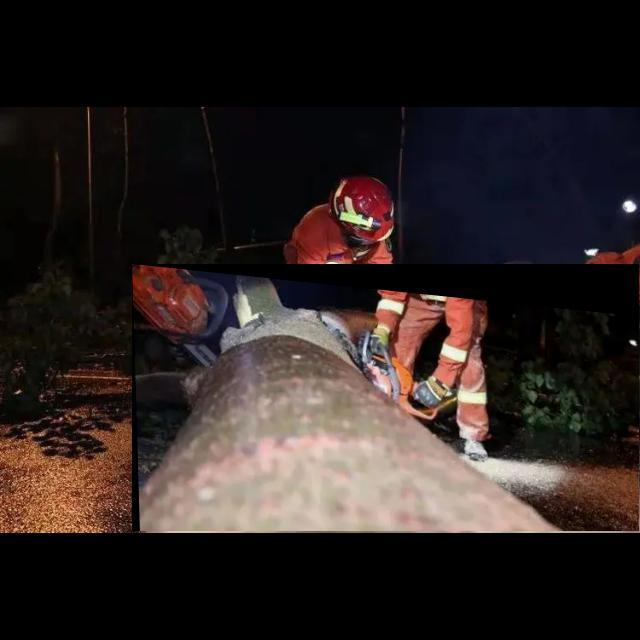fallen_tree: (132, 264, 640, 532)
